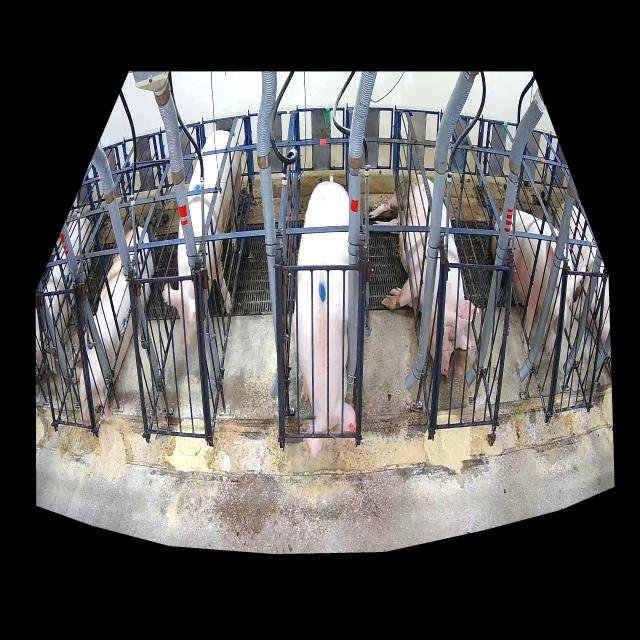pig: (369, 174, 475, 375), (162, 131, 241, 356), (292, 181, 356, 456), (72, 226, 154, 423), (492, 210, 585, 355)
